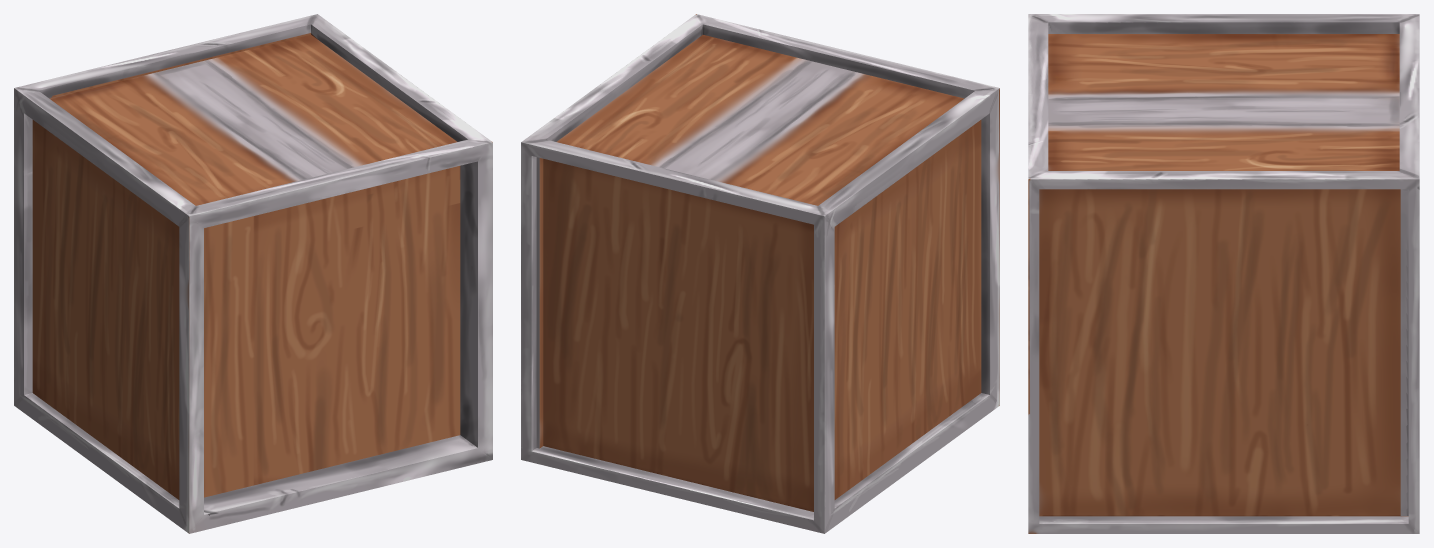
The model's file is metalBox.fbx.
The picture shows the model from 3 angles, left to right: view 1: azimuth 30°, elevation 25°; view 2: azimuth 150°, elevation 25°; view 3: azimuth 270°, elevation 25°; orthographic projection. The views are drawn at different scales.
Visible parts, largest first — view 1: caixa1; view 2: caixa1; view 3: caixa1.
Boxes of the visible parts, x1,y1,x2,y2 form: caixa1: [14, 14, 492, 533]; caixa1: [521, 14, 999, 533]; caixa1: [1028, 14, 1419, 533].
Bounding box in the file's own units: 31.04 × 31.04 × 31.04.
